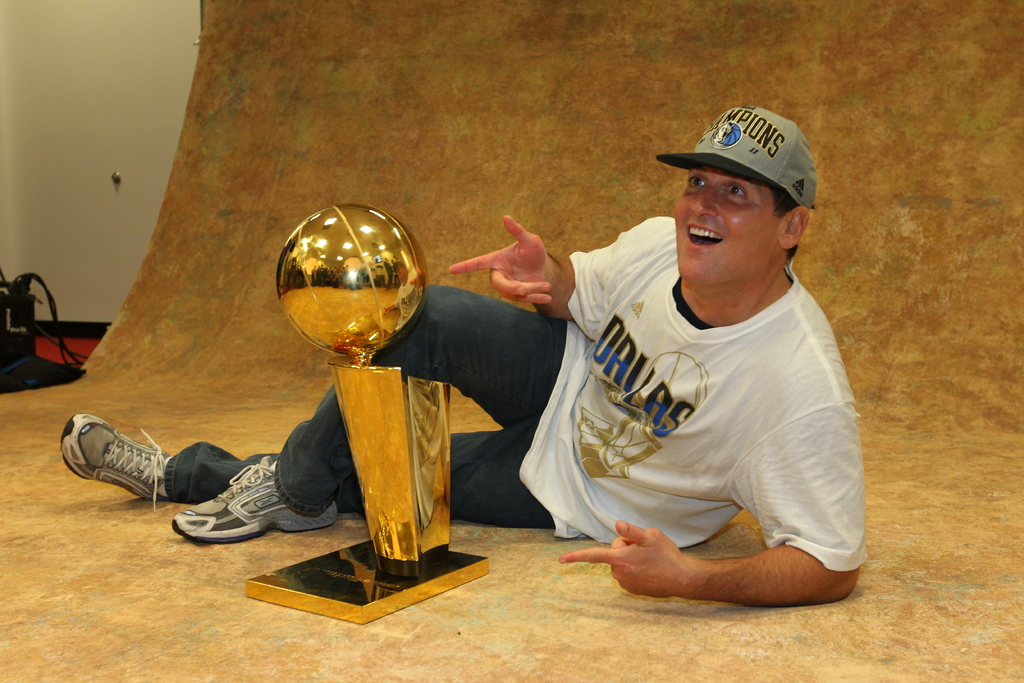Ball: (273, 204, 426, 357)
